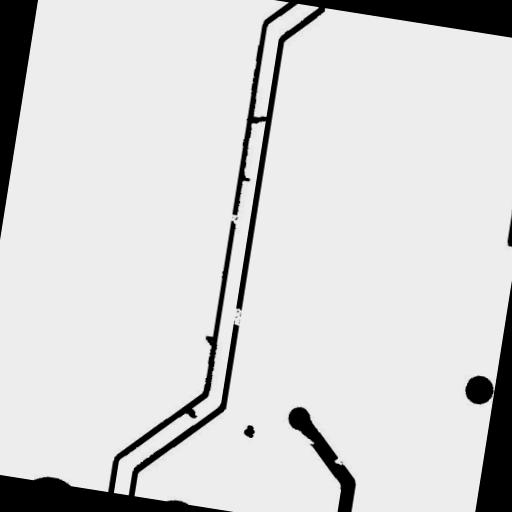copper: (234, 415, 263, 446)
mousebite: (294, 426, 324, 453), (324, 448, 352, 473)
open: (221, 298, 252, 334), (218, 204, 248, 232)
short: (240, 105, 278, 133)
spur: (172, 398, 206, 426), (194, 326, 224, 355), (229, 164, 258, 190)
